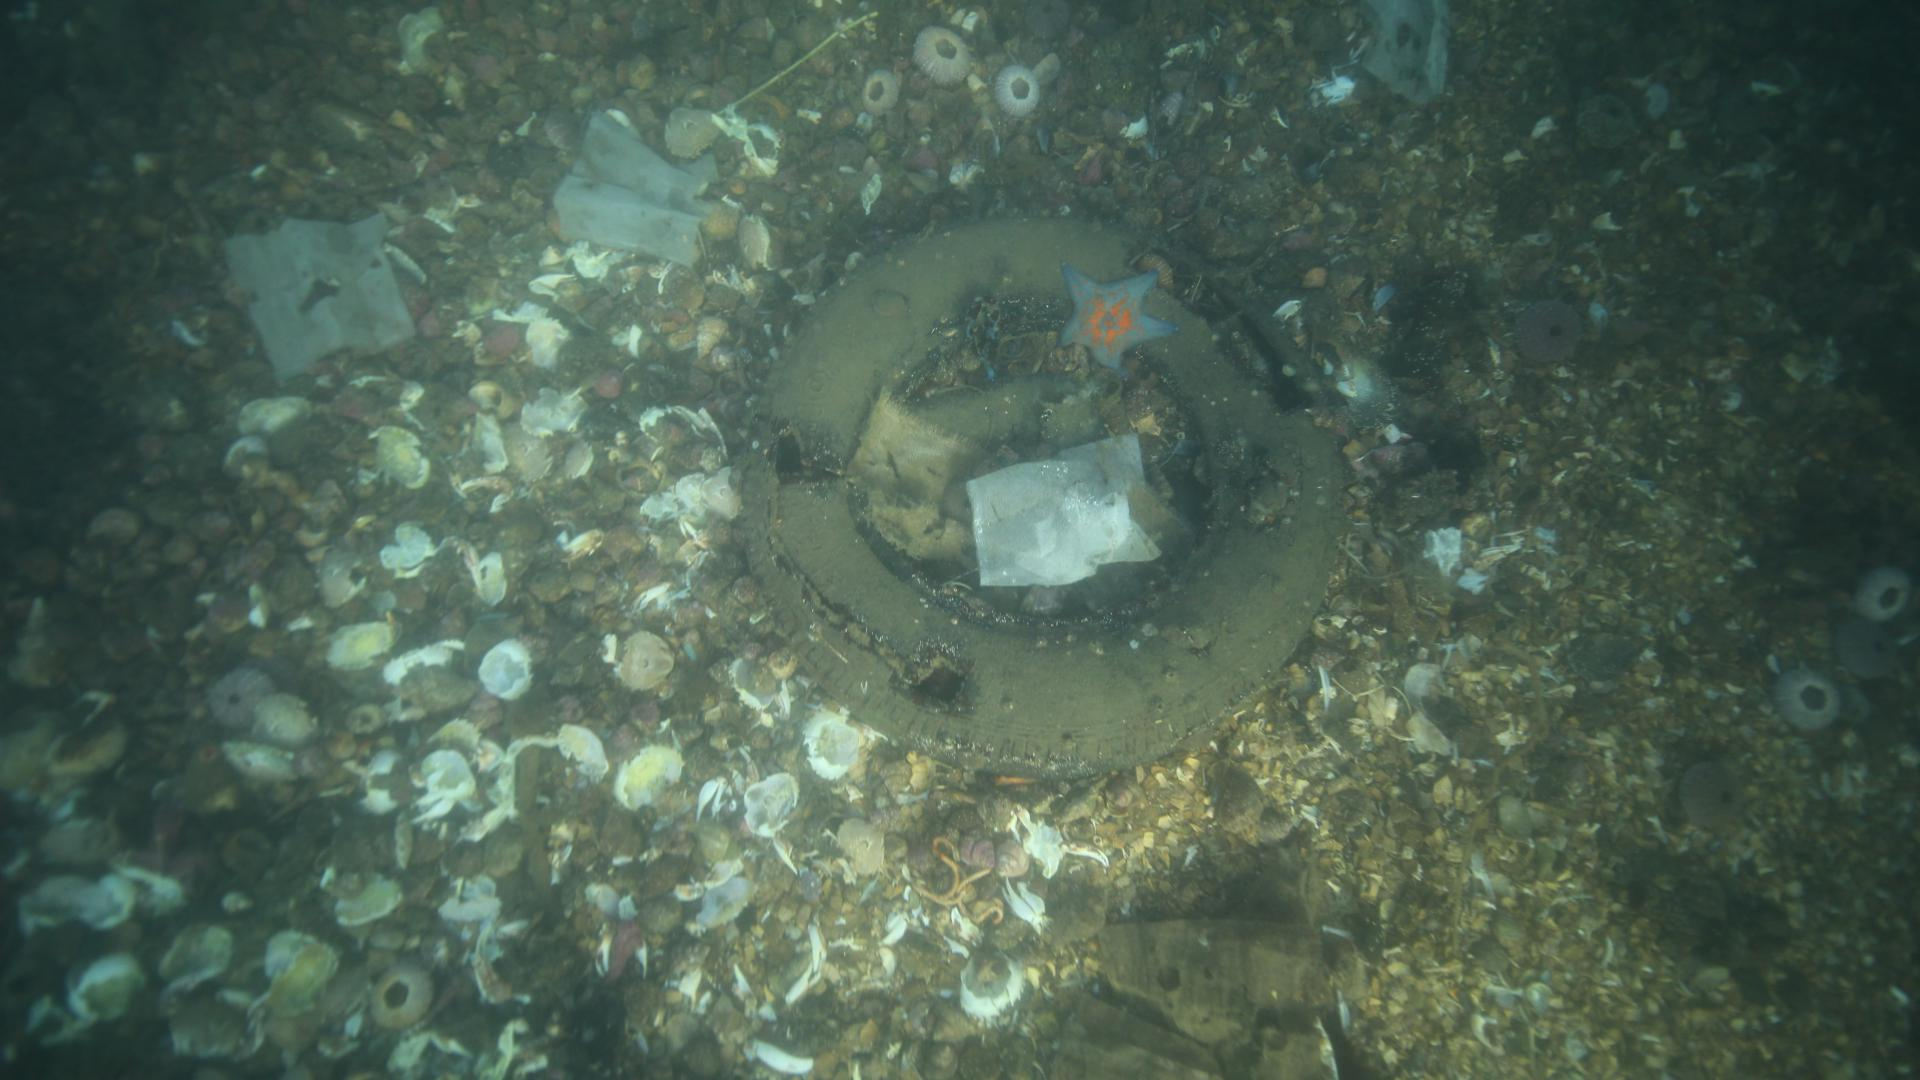tire: (746, 208, 1349, 778)
